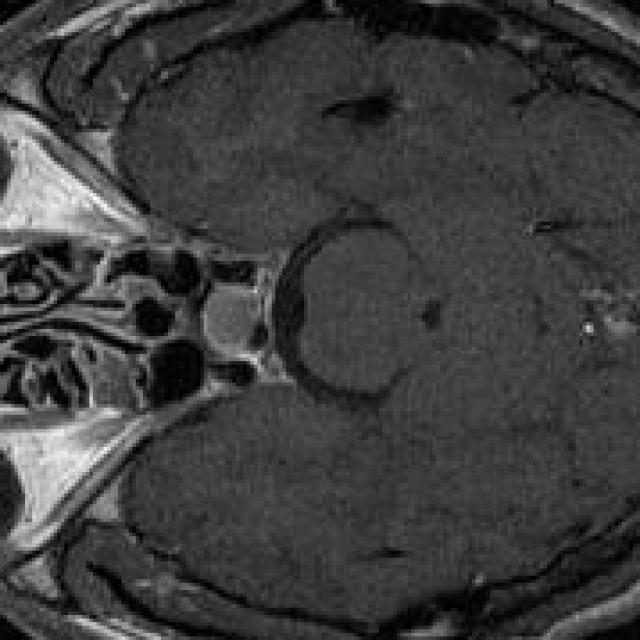pituitary: (200, 282, 268, 358)
